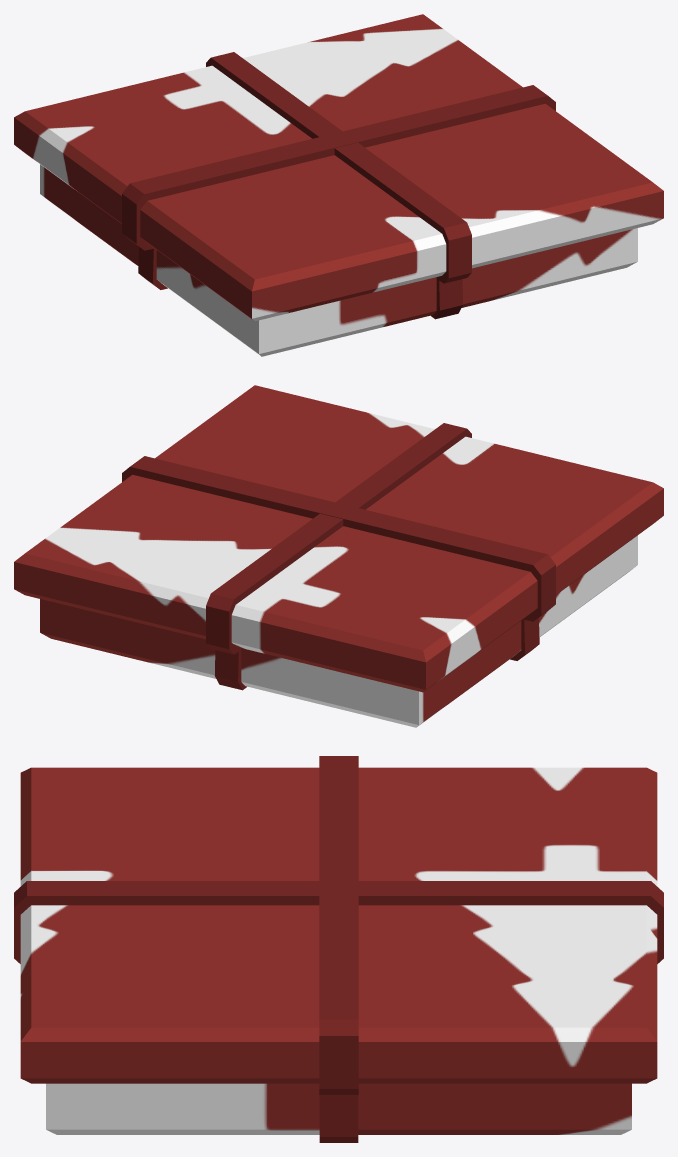
Rendered from PresentBox_SquareShort_01.fbx.
3 renders of one model, top to bottom at view 1: azimuth 30°, elevation 25°; view 2: azimuth 150°, elevation 25°; view 3: azimuth 270°, elevation 25°, orthographic. The views are drawn at different scales.
Visible parts, largest first — view 1: PresentBox_SquareShort_01_Top, PresentBox_SquareShort_01; view 2: PresentBox_SquareShort_01_Top, PresentBox_SquareShort_01; view 3: PresentBox_SquareShort_01_Top, PresentBox_SquareShort_01.
Boxes of the visible parts, x1,y1,x2,y2 form: PresentBox_SquareShort_01_Top: (14, 14, 663, 321); PresentBox_SquareShort_01: (40, 164, 637, 356); PresentBox_SquareShort_01_Top: (14, 385, 663, 692); PresentBox_SquareShort_01: (40, 535, 637, 727); PresentBox_SquareShort_01_Top: (14, 756, 663, 1094); PresentBox_SquareShort_01: (46, 1083, 631, 1142).
Bounding box in the file's own units: 0.253 × 0.0577 × 0.2538.
